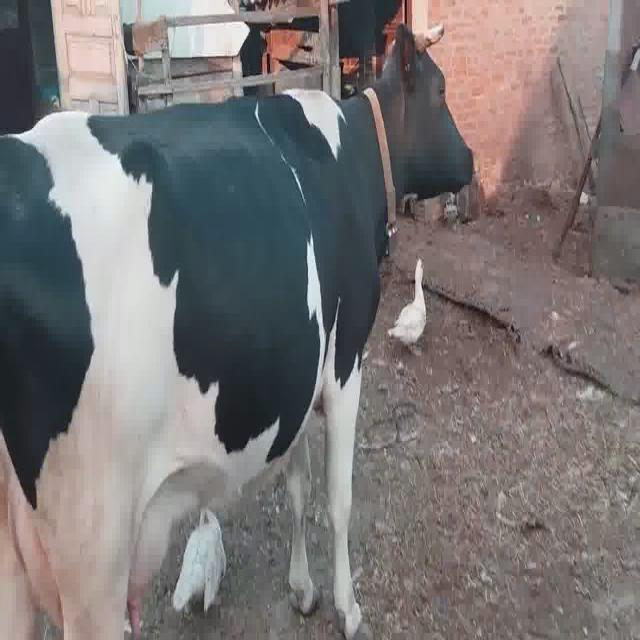cow: (0, 28, 472, 640)
